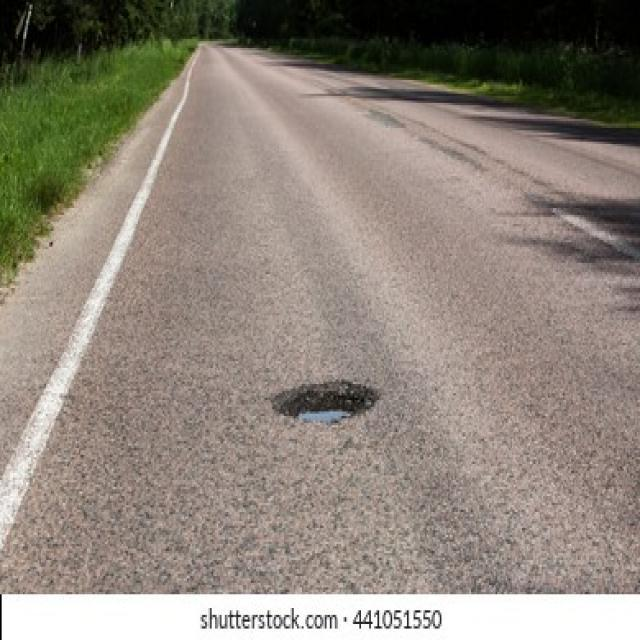Pothole: (272, 377, 380, 425)
